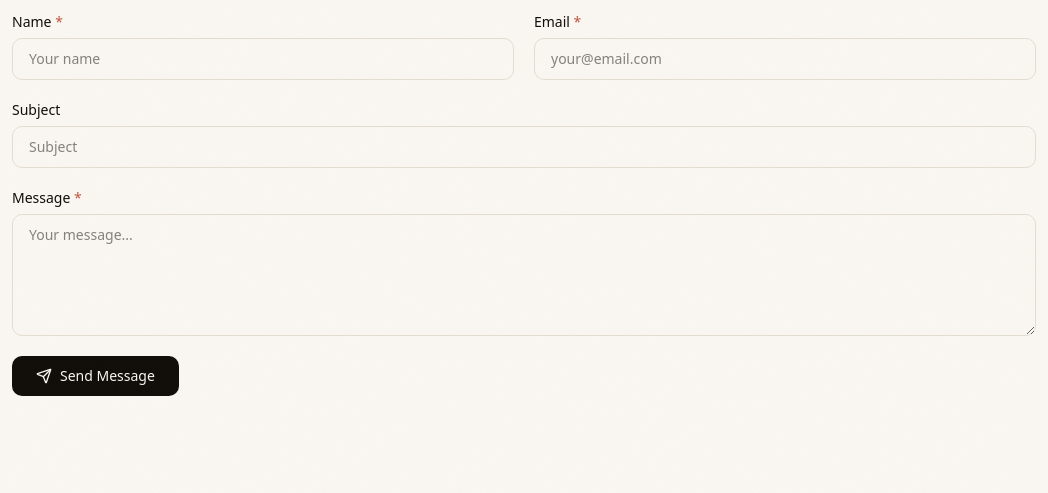
Test: ContactForm › should show error state on failed response
The width and height of the screenshot is (1048, 493).
Type "Jane Doe" into the field labelled "Name *". click: (263, 59)
box: left=12, top=38, right=514, bottom=80
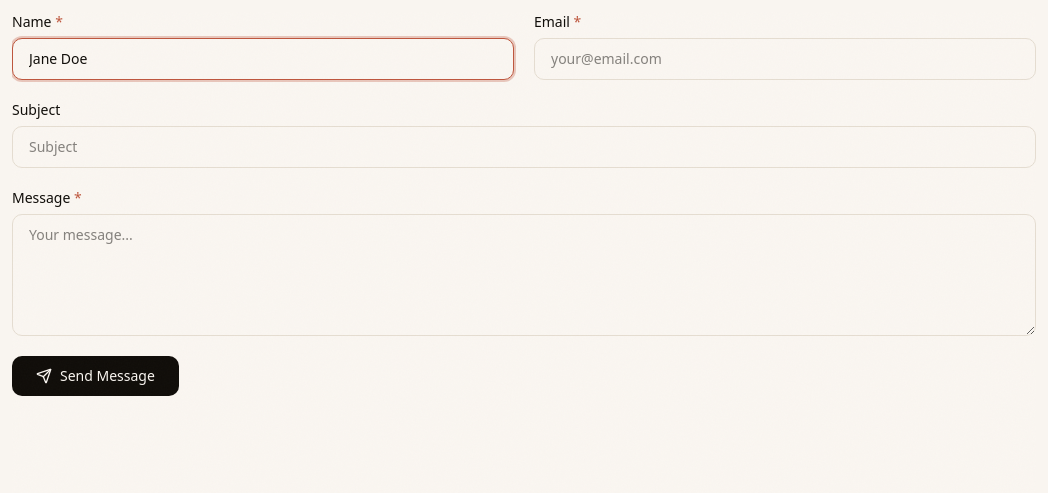
Type "jane@example.com" into the field labelled "Email *". click: (785, 59)
box: left=534, top=38, right=1036, bottom=80
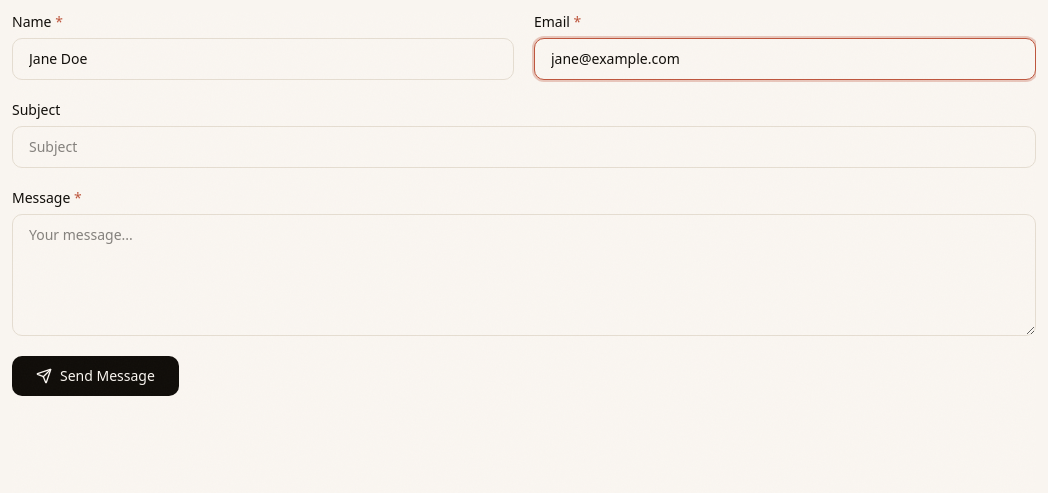
Type "This is a sufficiently long test message body." into the text box labelled "Message *". click: (524, 275)
box: left=12, top=214, right=1036, bottom=336
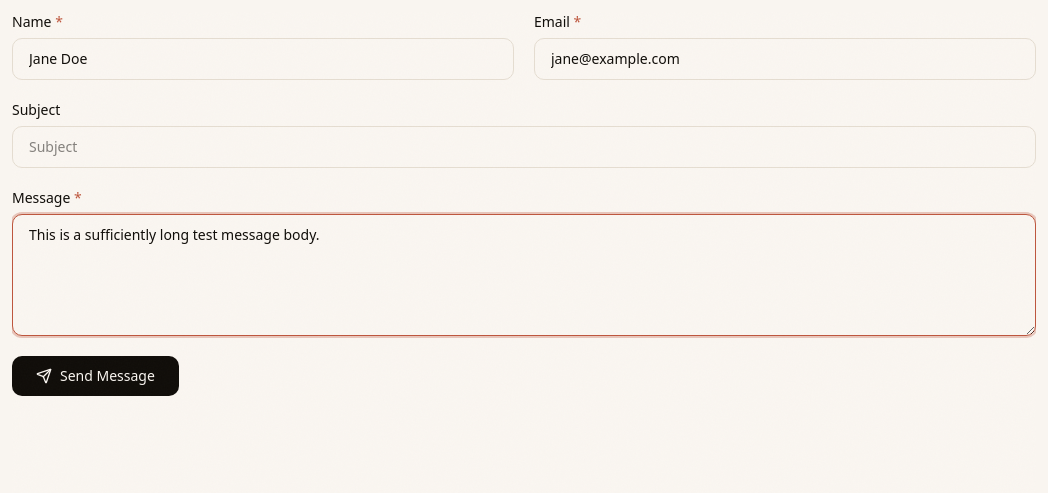
Click the button "Send Message". click: (95, 376)
box: left=12, top=356, right=179, bottom=396
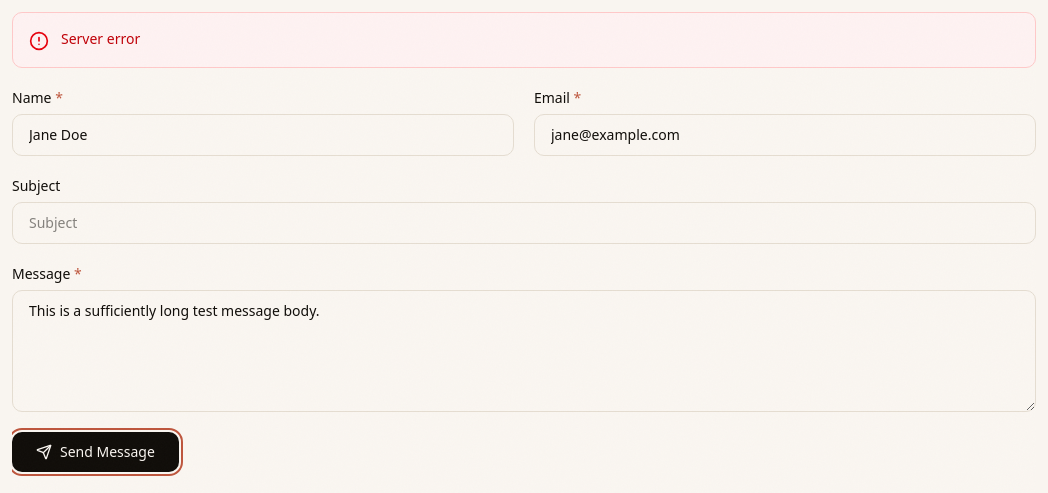
Expected: the text "Server error" is shown, left=61, top=29, right=140, bottom=49
